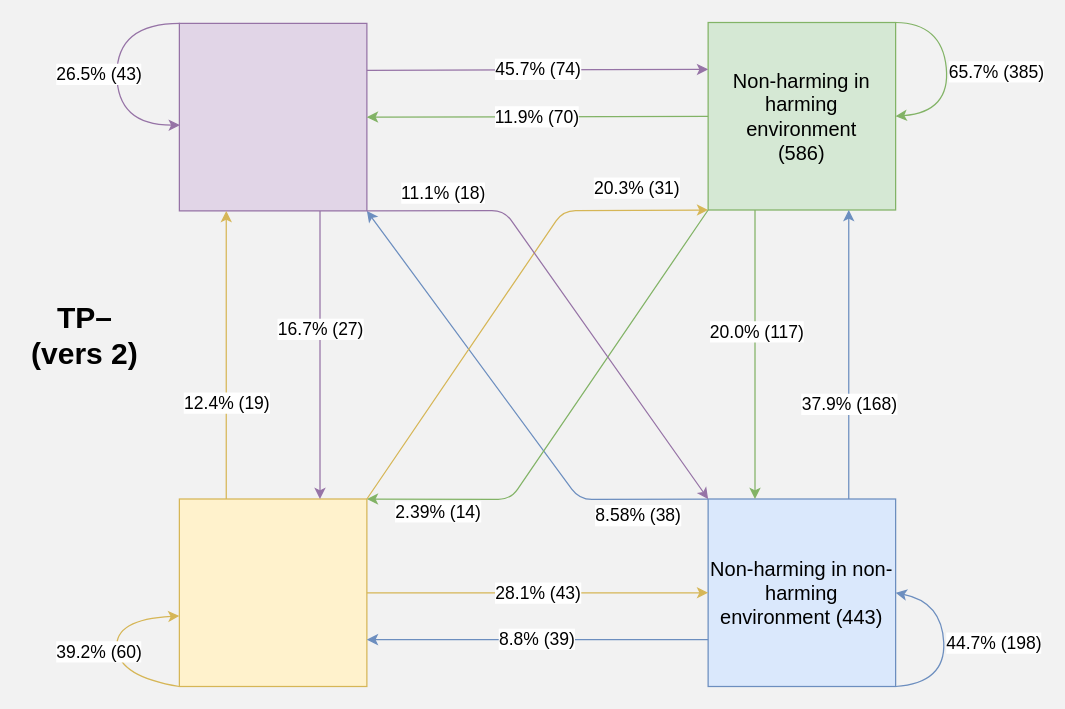
Some shapes in this 1065 by 709 pixel diagram are drawn without their labels. Here are the shapes that lost their labels. From the top down, the centre of each, then its label:
(272,116): Harming in harming environment (162)
(272,592): Harming in non-harming environment (153)
